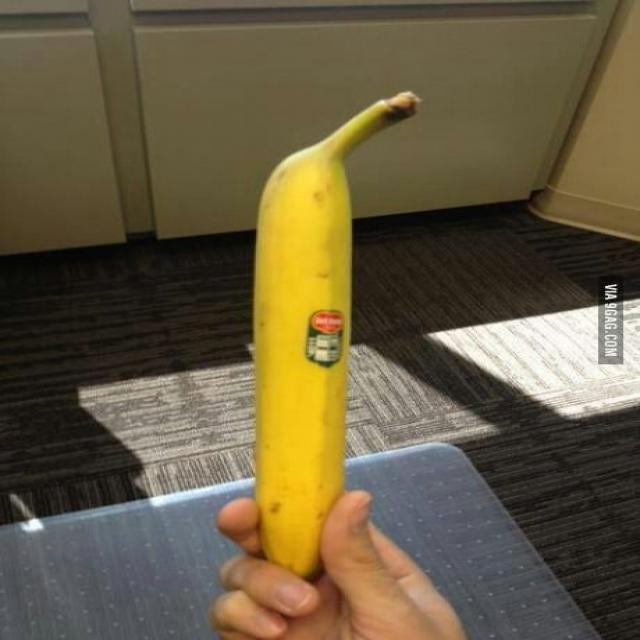Banana: (237, 93, 418, 583)
